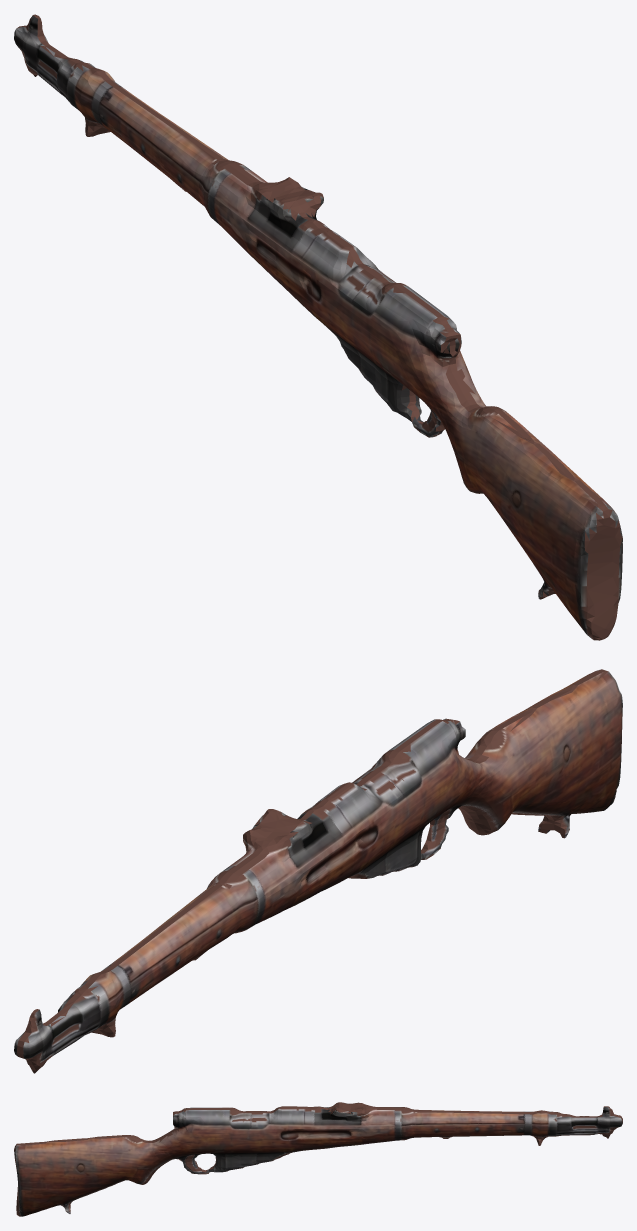
Rendered from mosin.glb.
3 views of the same model, one above another, from view 1: azimuth 30°, elevation 25°; view 2: azimuth 150°, elevation 25°; view 3: azimuth 270°, elevation 25° (orthographic). The views are drawn at different scales.
Parts seen in each view (by area): view 1: Mesh_0; view 2: Mesh_0; view 3: Mesh_0.
Boxes of the visible parts, <box> form: Mesh_0: <box>14,14,622,640</box>; Mesh_0: <box>14,669,622,1073</box>; Mesh_0: <box>14,1102,622,1216</box>.
Bounding box in the file's own units: 0.0689 × 0.2511 × 1.23.
1 material, 1 textured.
